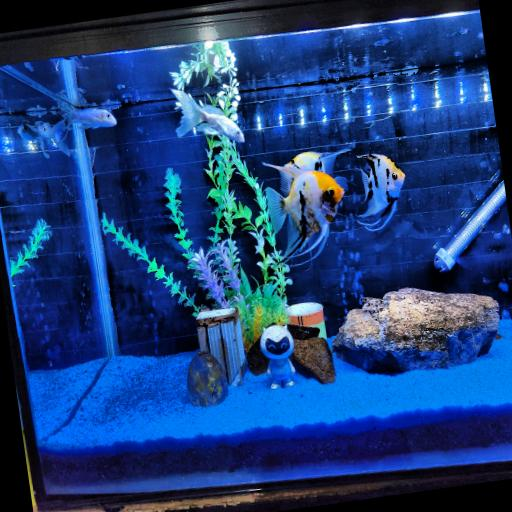Fish: (266, 167, 344, 260), (171, 89, 244, 142), (359, 155, 405, 230), (285, 148, 350, 175), (36, 120, 70, 155), (67, 108, 116, 130), (18, 124, 49, 158)
